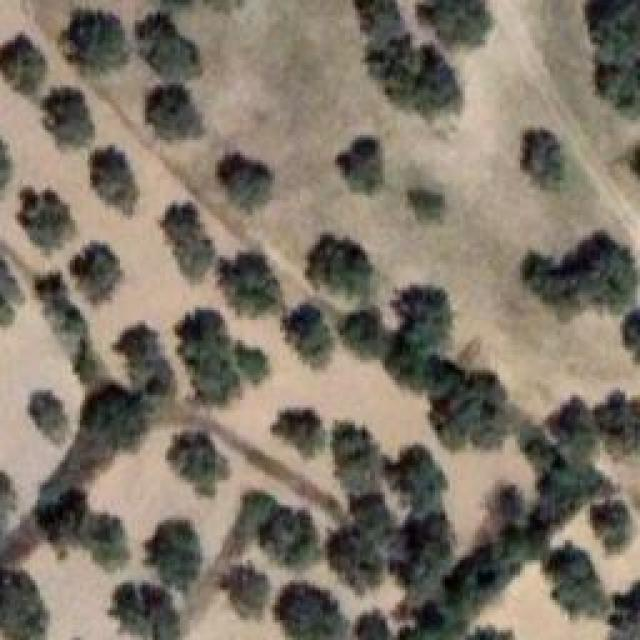Tree: (355, 0, 462, 116), (523, 233, 636, 320), (175, 310, 268, 406), (38, 488, 131, 571), (430, 358, 510, 451), (385, 285, 451, 390), (328, 494, 394, 594), (588, 0, 640, 116), (390, 510, 451, 597), (543, 542, 609, 617), (80, 383, 151, 450), (113, 323, 174, 400), (385, 445, 448, 516), (275, 582, 350, 640), (135, 15, 200, 81), (163, 203, 217, 281), (145, 520, 201, 592), (308, 235, 374, 296), (110, 583, 180, 640), (333, 422, 384, 497), (545, 395, 598, 467), (168, 433, 228, 496), (220, 258, 284, 317), (17, 187, 75, 252), (68, 12, 128, 72), (92, 145, 140, 215), (0, 570, 48, 640), (417, 0, 491, 44), (283, 302, 333, 367), (263, 510, 320, 567), (145, 85, 203, 140), (70, 243, 121, 305), (218, 155, 273, 212), (43, 88, 97, 146), (592, 390, 640, 453), (0, 36, 46, 96), (338, 310, 392, 361), (273, 407, 327, 457), (220, 563, 268, 619), (338, 138, 384, 195), (523, 130, 564, 188), (590, 500, 633, 553), (30, 390, 69, 443), (520, 425, 560, 476), (410, 190, 445, 220), (358, 610, 391, 640)
